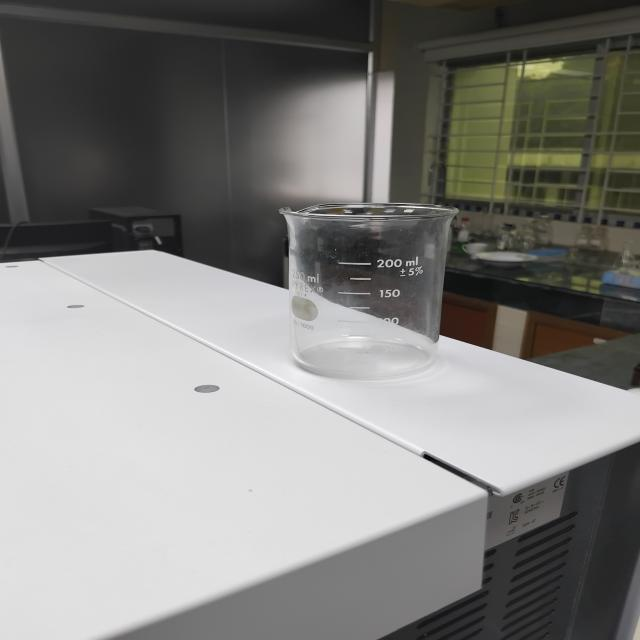Beaker: (252, 174, 488, 398)
